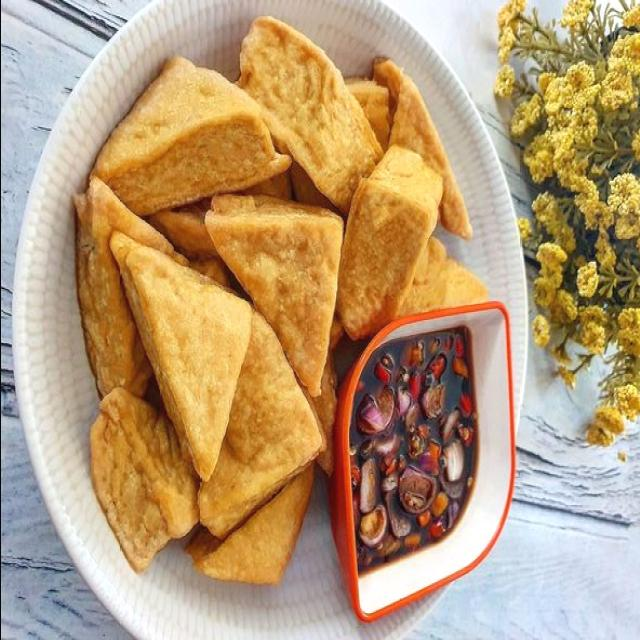tahu goreng: (107, 227, 252, 483), (88, 55, 290, 219), (196, 190, 344, 400), (330, 142, 442, 347)
